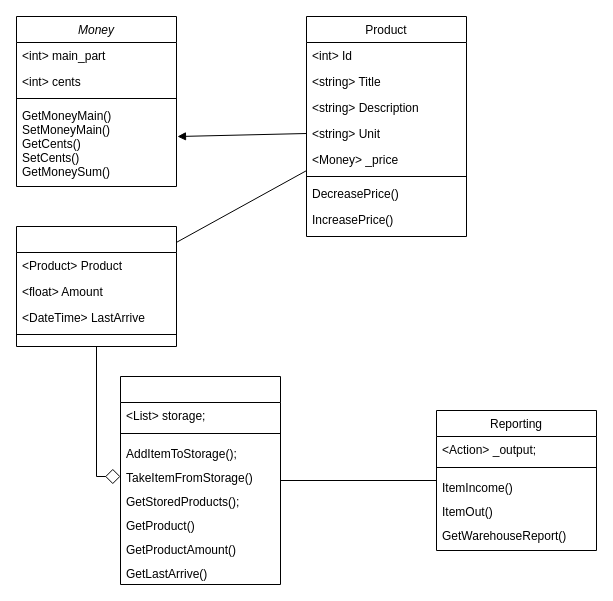
This 613x601 diagram has some shape labels left out. Each missing label, with the box of its shape:
StoredProduct: (16, 226, 176, 346)
Warehouse: (120, 376, 280, 584)
